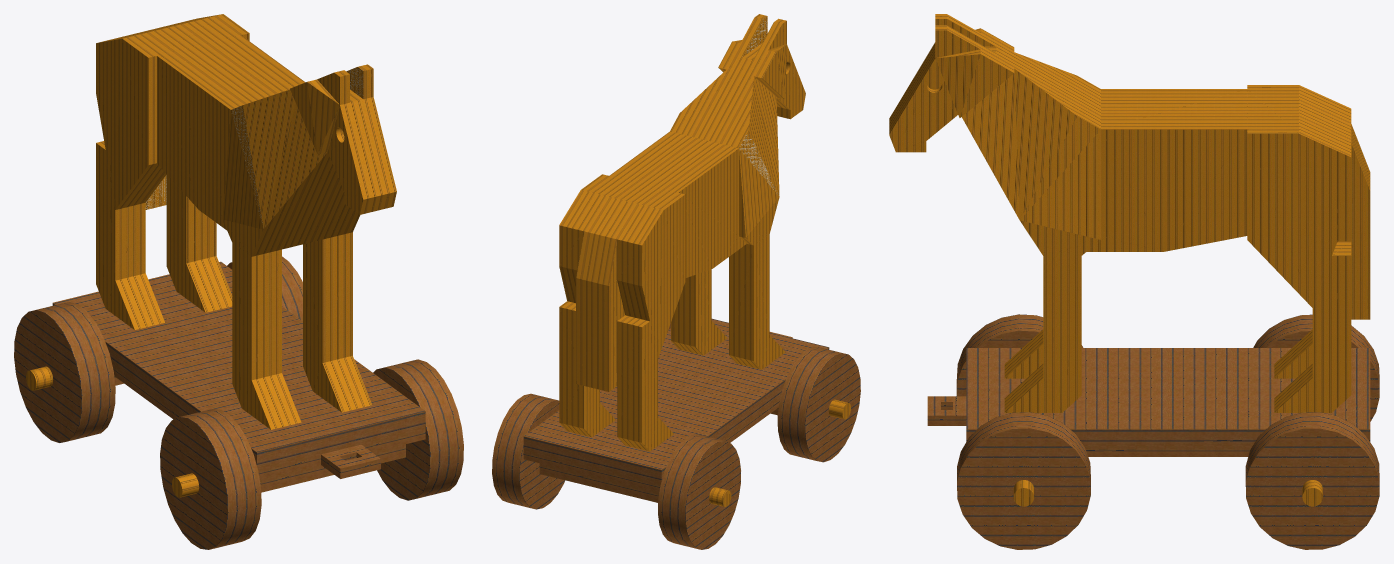
3 views of the same model, side by side, from view 1: azimuth 30°, elevation 25°; view 2: azimuth 150°, elevation 25°; view 3: azimuth 270°, elevation 25° (orthographic). The views are drawn at different scales.
Parts seen in each view (by area): view 1: SketchUp (×6); view 2: SketchUp (×5); view 3: SketchUp (×6).
Boxes of the visible parts, bbox=[...] form: SketchUp (×6): bbox=[14, 14, 463, 549]; SketchUp (×5): bbox=[492, 14, 860, 549]; SketchUp (×6): bbox=[889, 14, 1379, 549].
Size of the model in its own units: 800 by 1274 by 1350.
3 materials, 2 textured.
